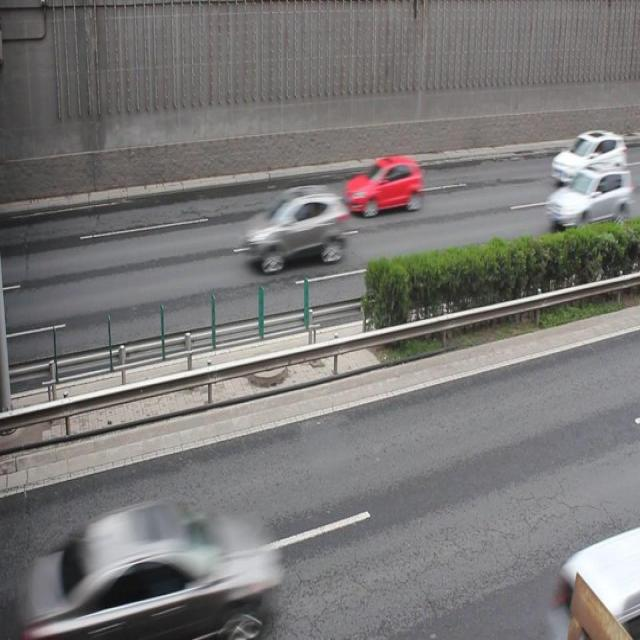car: (53, 499, 272, 640), (244, 184, 343, 272), (541, 161, 625, 232), (344, 156, 421, 217), (550, 130, 626, 187)
